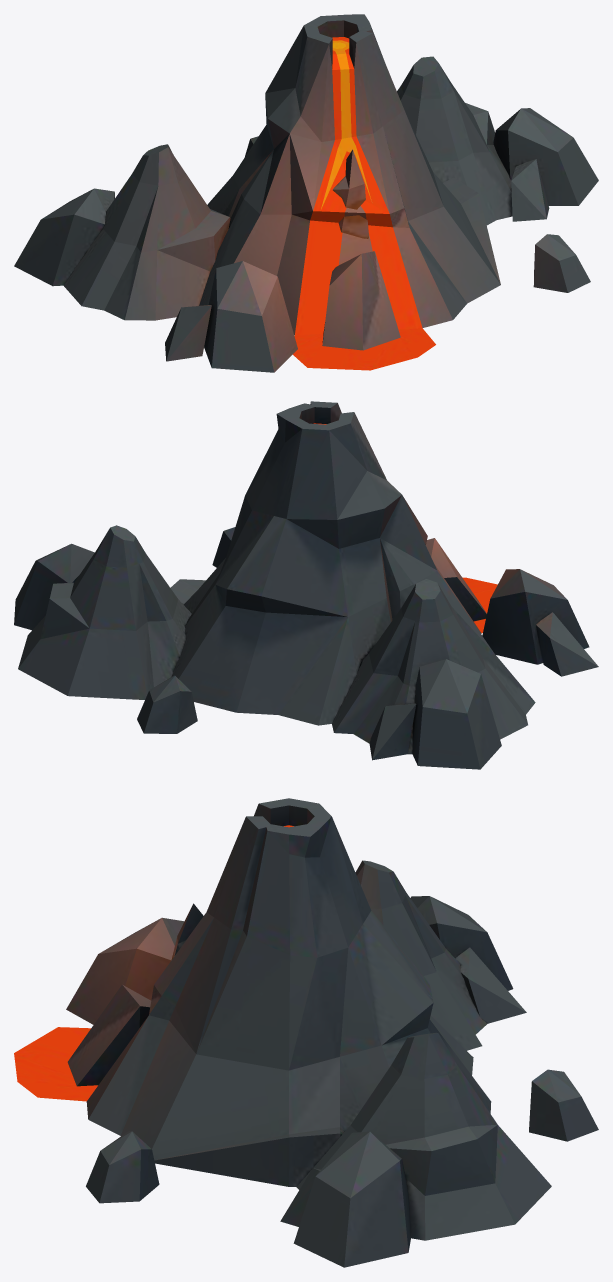
Rendered from volcano.glb.
The picture shows the model from 3 angles, top to bottom: view 1: azimuth 30°, elevation 25°; view 2: azimuth 150°, elevation 25°; view 3: azimuth 270°, elevation 25°; orthographic projection. The views are drawn at different scales.
Parts seen in each view (by area): view 1: volcano; view 2: volcano; view 3: volcano.
Part boxes in pixels (<box>): volcano: <box>14,14,598,372</box>; volcano: <box>14,401,598,769</box>; volcano: <box>14,798,598,1267</box>.
Bounding box in the file's own units: 3.2 × 1.38 × 2.56.
1 material, 1 textured.
